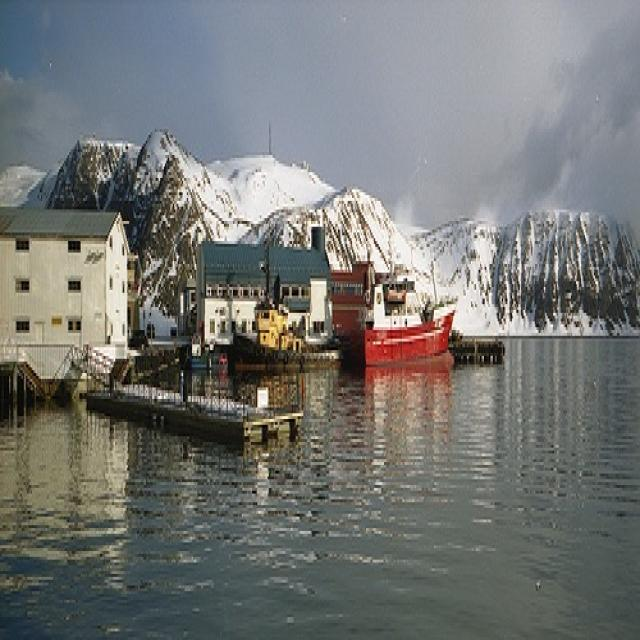boat: (362, 281, 456, 370)
